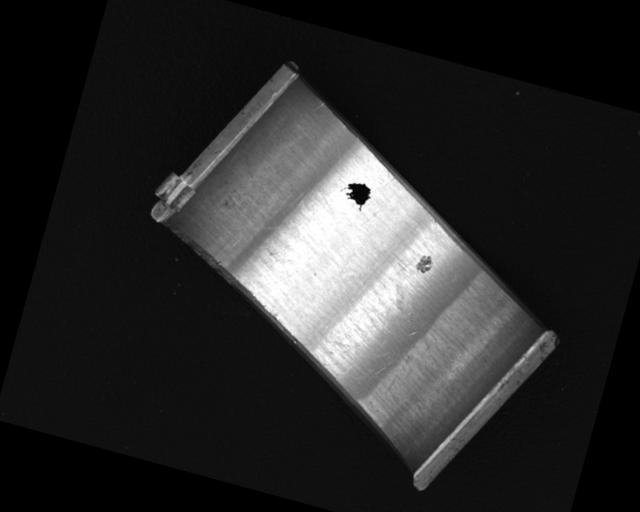blot: (334, 176, 374, 212)
bruise: (412, 251, 435, 277)
nick: (312, 98, 325, 114)
